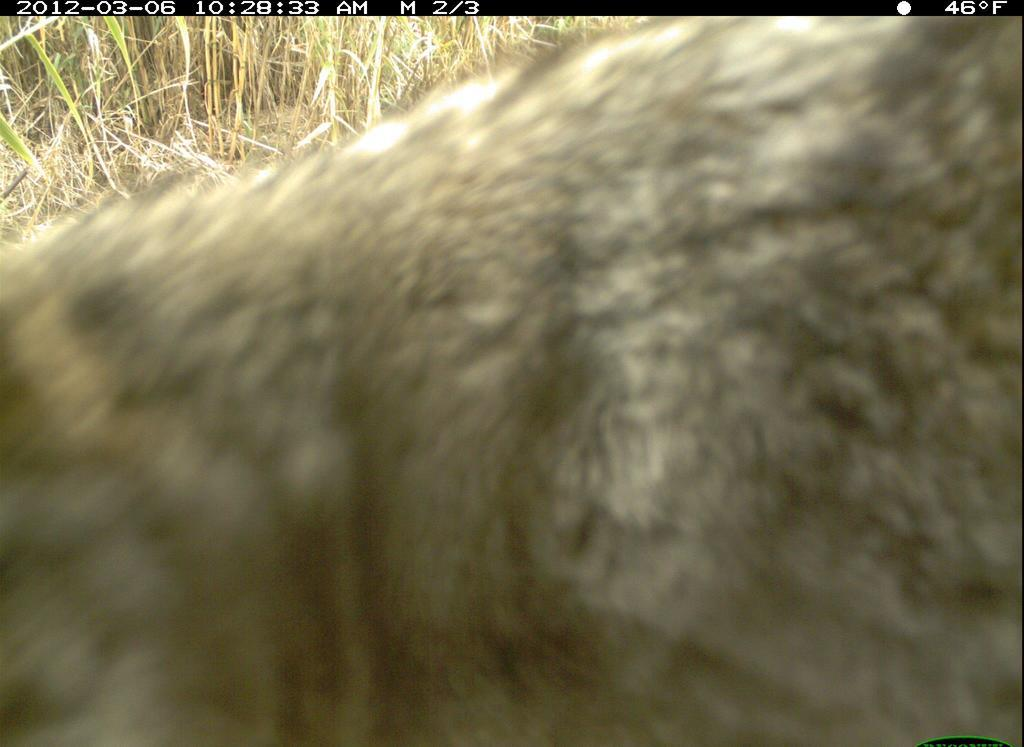coyote: (3, 18, 1023, 747)
